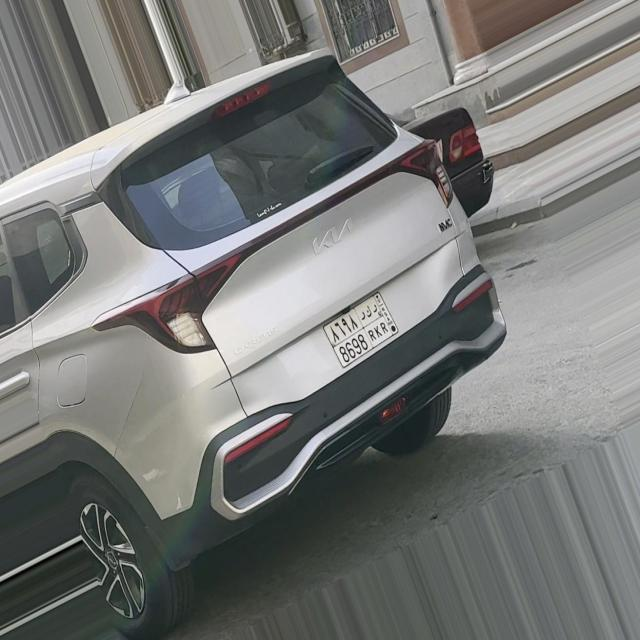Car-plate: (311, 283, 409, 379)
